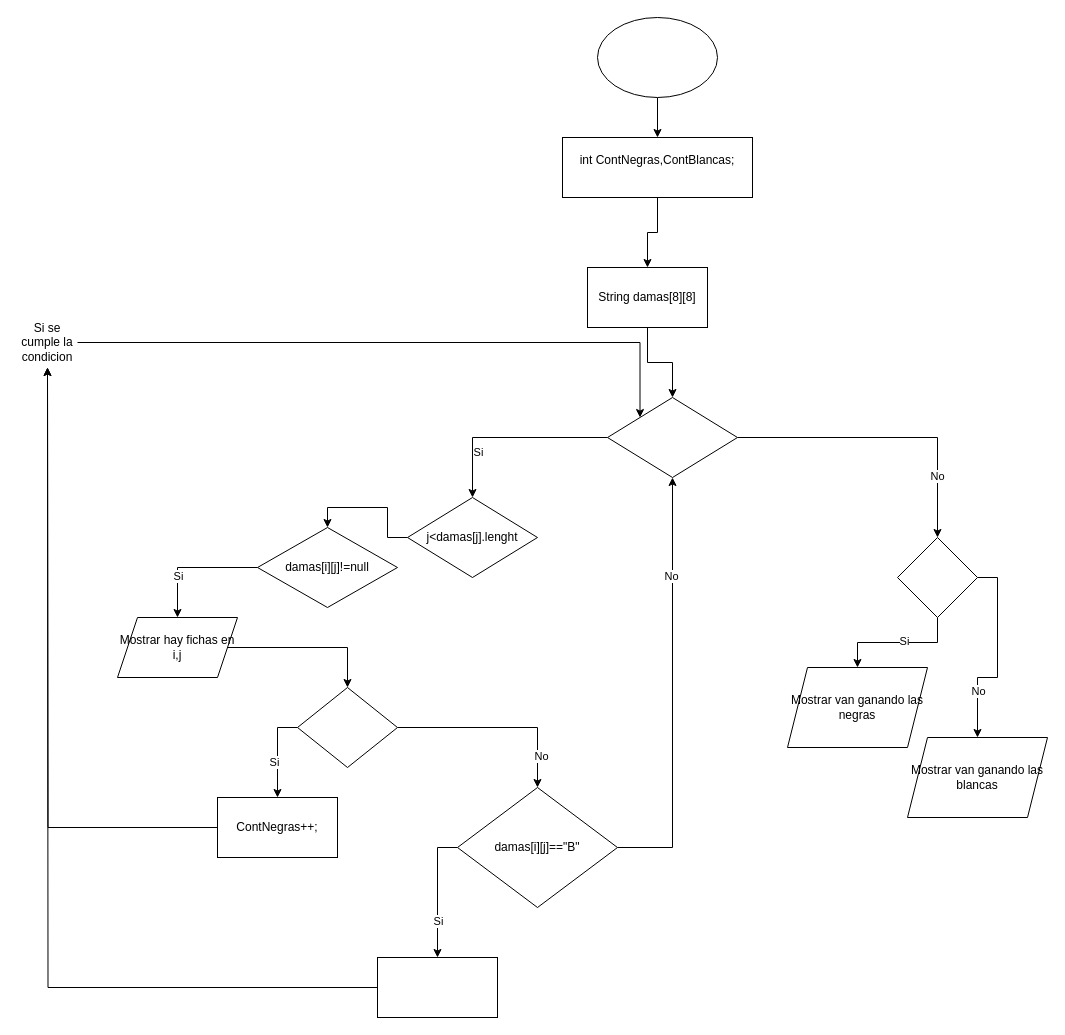
This 1065x1035 diagram has some shape labels left out. The centre of each missing label's shape, as x and y in pixels:
ContBlancas++;: the point at 437,987
contNegras>contBlancas: the point at 937,577
damas[i][j]=="N": the point at 347,727
i<damas.length: the point at 672,437
Inicio: the point at 657,57
